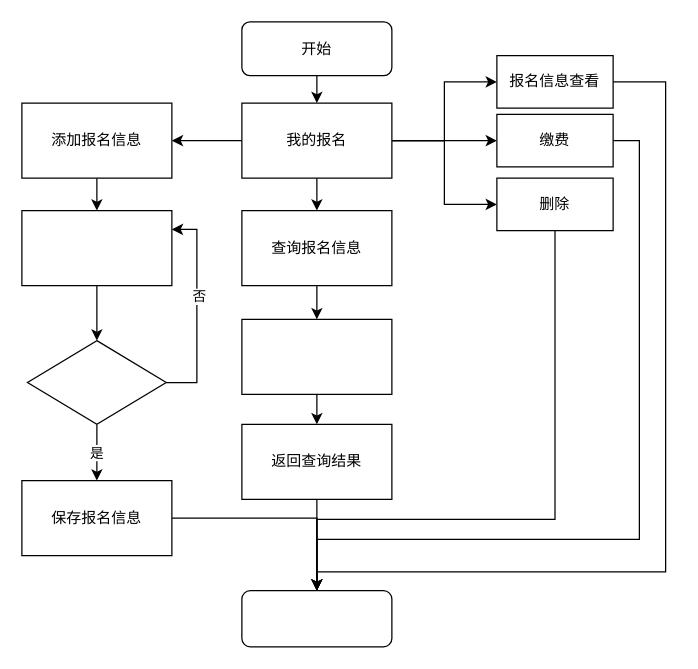
This 698x669 diagram has some shape labels left out. The shapes that lost their labels are listed below. From the top down, each one's centre as x and y in pixels, then its label:
At (x=96, y=247): "输入报名信息".
At (x=316, y=356): "输入查询关键字".
At (x=96, y=381): "验证信息合法性".
At (x=316, y=618): "结束".
